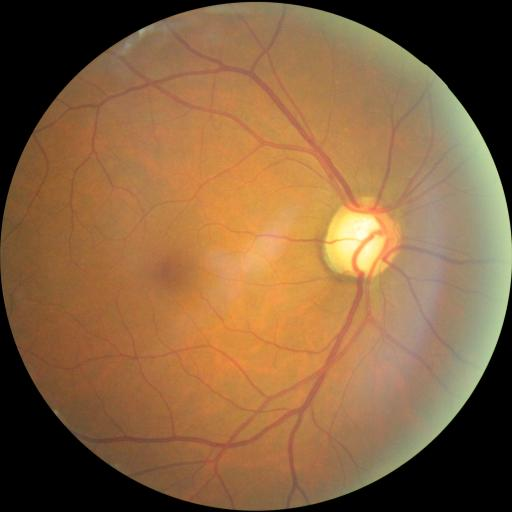Optic Cup: (345, 216, 388, 270)
Optic Disc: (325, 197, 400, 280)
